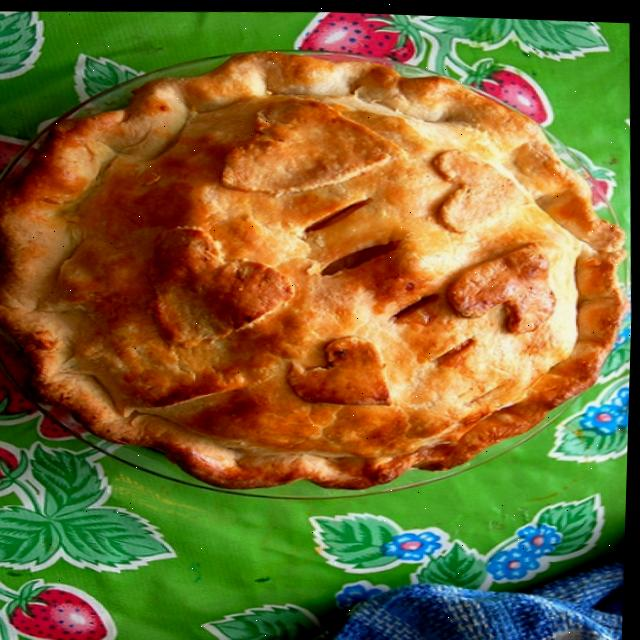炸货点心: (0, 15, 640, 522)
蛋糕甜品: (0, 15, 640, 522)
